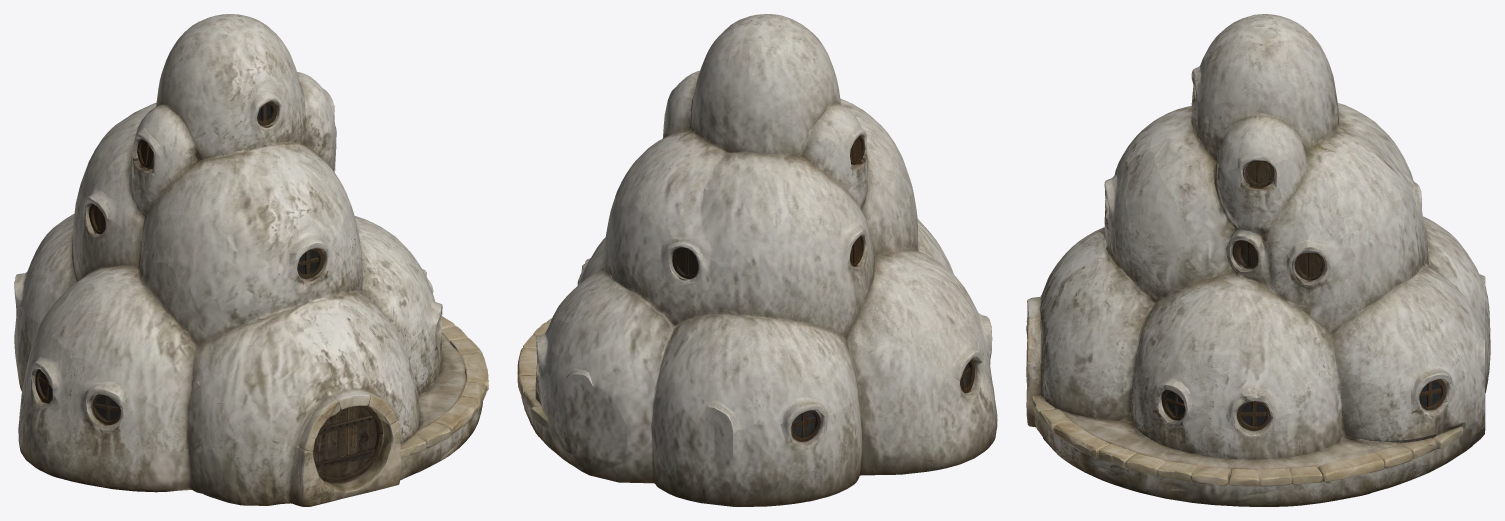
Rendered from pauhouse.glb.
3 views of the same model, side by side, from view 1: azimuth 30°, elevation 25°; view 2: azimuth 150°, elevation 25°; view 3: azimuth 270°, elevation 25° (orthographic).
Parts seen in each view (by area): view 1: pauhouse-centred; view 2: pauhouse-centred; view 3: pauhouse-centred.
Boxes of the visible parts, x1,y1,x2,y2 form: pauhouse-centred: (14,14,488,506); pauhouse-centred: (517,14,997,506); pauhouse-centred: (1026,14,1490,506).
Bounding box in the file's own units: 16.25 × 14 × 15.38.
1 material, 1 textured.
